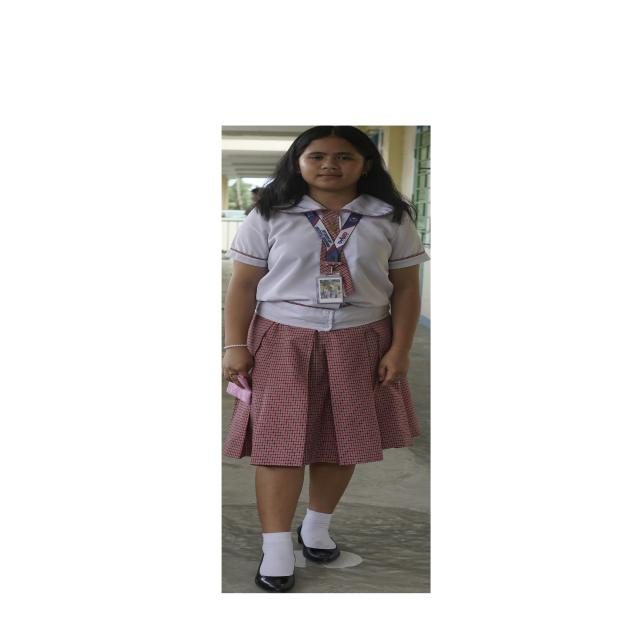id lace: (305, 213, 363, 263)
pologirl: (227, 195, 430, 334), (333, 251, 354, 295), (322, 210, 341, 246), (320, 244, 330, 274)
shoes: (296, 525, 341, 563), (255, 568, 295, 593)
skirt: (223, 315, 420, 466)
